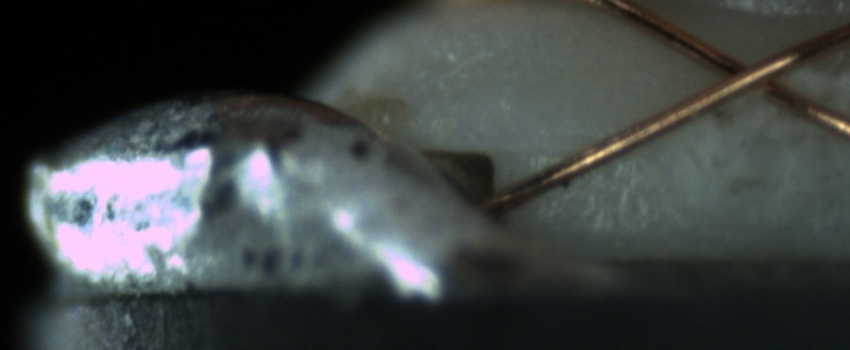CL: (696, 40, 802, 108)
